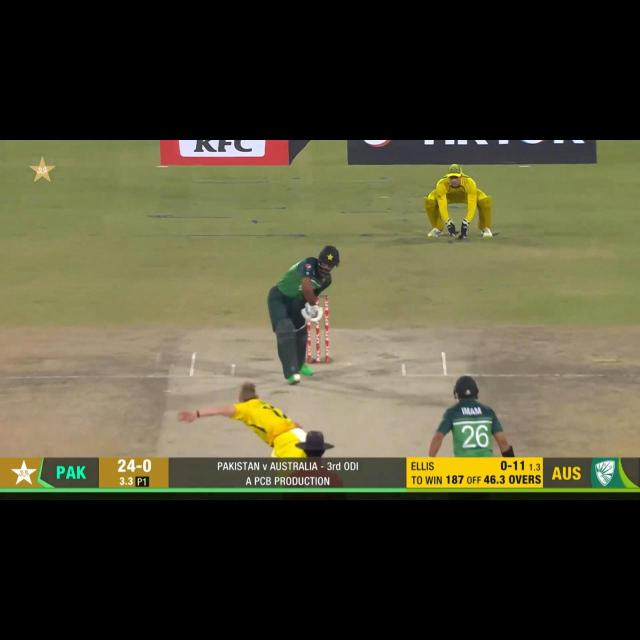bat: (308, 308, 320, 318)
